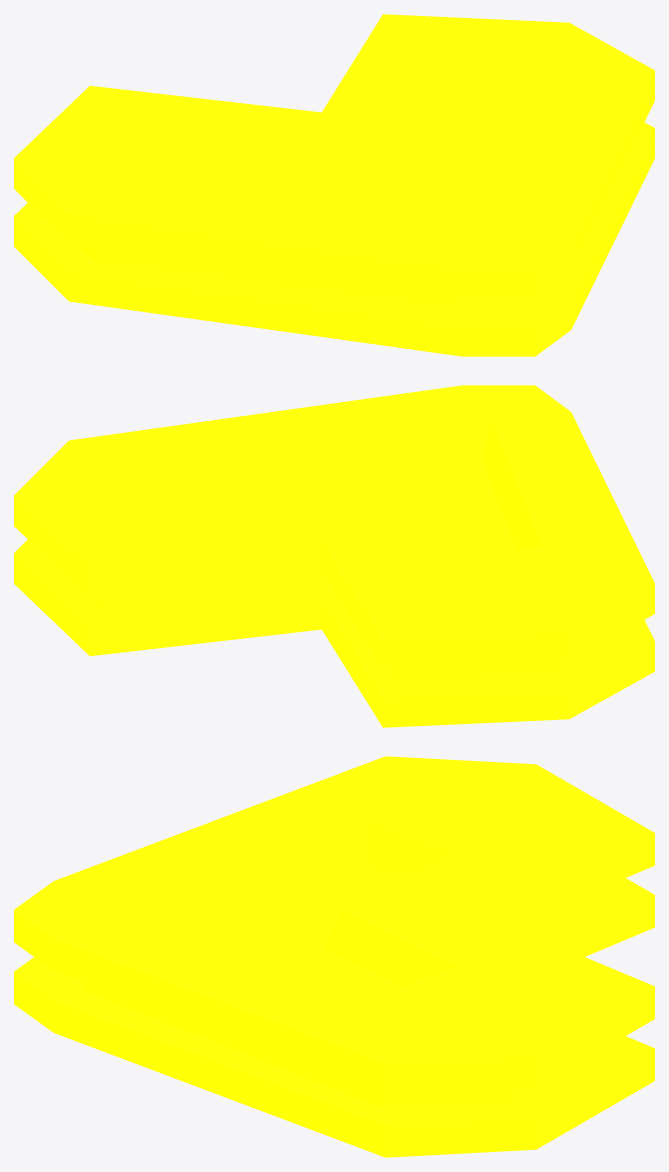
The model's file is cookie-jam-heart.glb.
3 views of the same model, one above another, from view 1: azimuth 30°, elevation 25°; view 2: azimuth 150°, elevation 25°; view 3: azimuth 270°, elevation 25° (orthographic). The views are drawn at different scales.
Parts seen in each view (by area): view 1: cookie_jam_heart; view 2: cookie_jam_heart; view 3: cookie_jam_heart.
Boxes of the visible parts, box(x1,y1,x2,y2) form: cookie_jam_heart: box(14, 14, 654, 356); cookie_jam_heart: box(14, 385, 654, 727); cookie_jam_heart: box(14, 756, 654, 1157).
Bounding box in the file's own units: 0.0603 × 0.00867 × 0.0533.
Materials: 1 (1 with a texture image).
